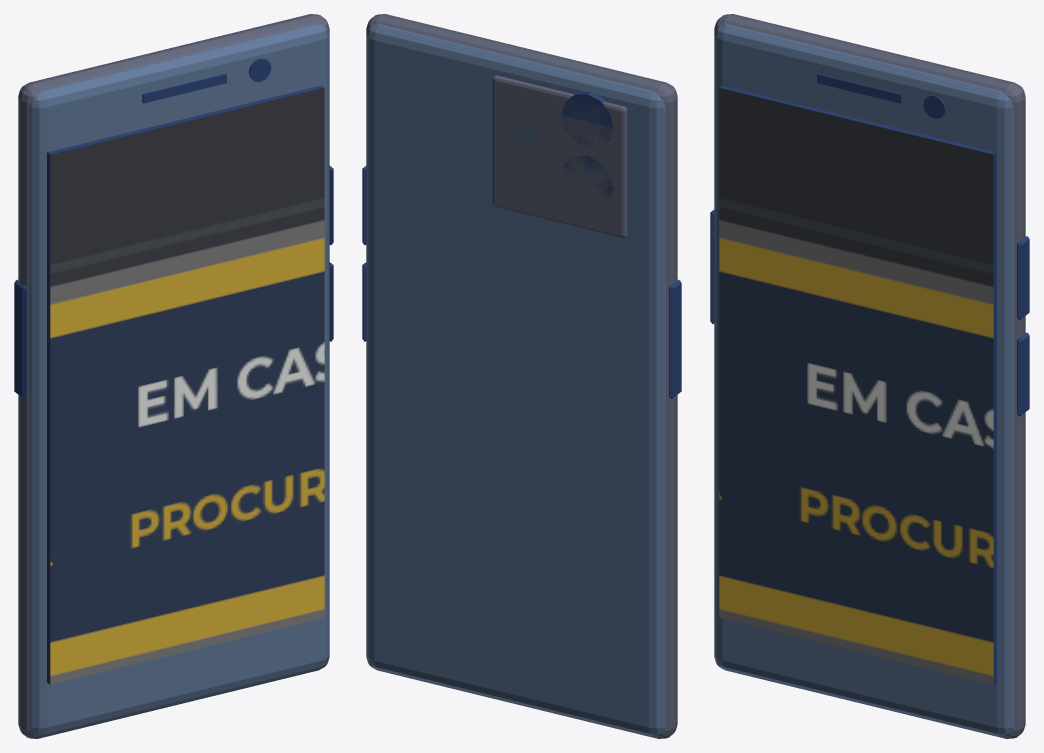
The model's file is Celular.fbx.
3 views of the same model, side by side, from view 1: azimuth 30°, elevation 25°; view 2: azimuth 150°, elevation 25°; view 3: azimuth 330°, elevation 25° (orthographic).
Visible parts, largest first — view 1: Tela, Celular, TelaRelogio; view 2: Celular; view 3: Tela, Celular, TelaRelogio.
Part boxes in pixels (left/top/right/bottom): Tela: left=48, top=86, right=324, bottom=684; Celular: left=14, top=14, right=333, bottom=738; TelaRelogio: left=47, top=85, right=322, bottom=683; Celular: left=362, top=14, right=681, bottom=738; Tela: left=719, top=86, right=995, bottom=684; Celular: left=710, top=14, right=1029, bottom=738; TelaRelogio: left=721, top=85, right=996, bottom=682.
Size of the model in its own units: 0.0744 by 0.1492 by 0.0114.
1 material, 1 textured.
